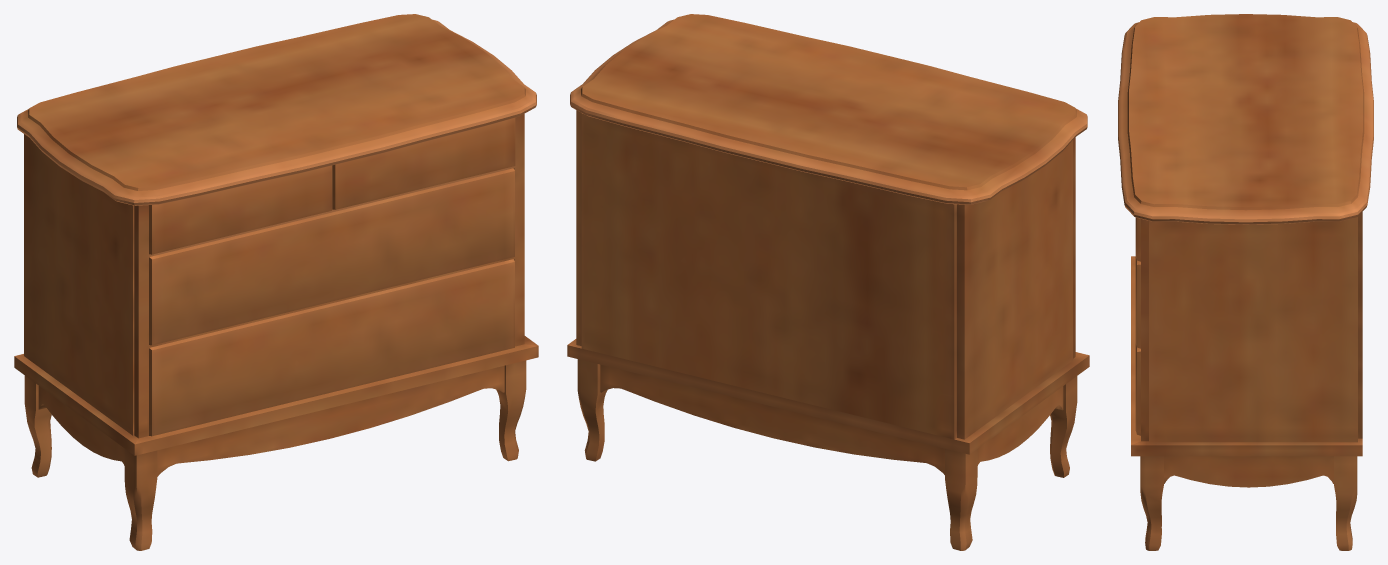
Rendered from table_1.fbx.
3 views of the same model, side by side, from view 1: azimuth 30°, elevation 25°; view 2: azimuth 150°, elevation 25°; view 3: azimuth 270°, elevation 25° (orthographic). The views are drawn at different scales.
Visible parts, largest first — view 1: table_1; view 2: table_1; view 3: table_1.
Part boxes in pixels (box(x1,y1,x2,y2)): table_1: box(14, 14, 538, 550); table_1: box(567, 14, 1089, 550); table_1: box(1118, 14, 1373, 550).
Bounding box in the file's own units: 1.12 × 0.8963 × 0.592.
